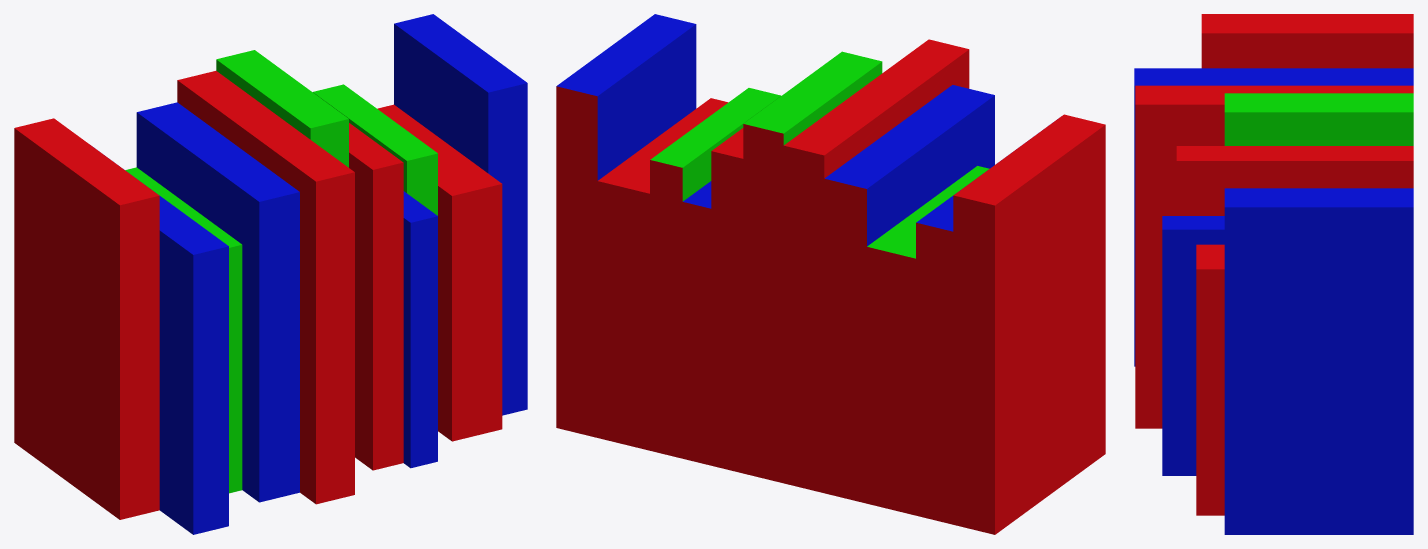
The model's file is Books.fbx.
The picture shows the model from 3 angles, left to right: view 1: azimuth 30°, elevation 25°; view 2: azimuth 150°, elevation 25°; view 3: azimuth 270°, elevation 25°; orthographic projection. The views are drawn at different scales.
Visible parts, largest first — view 1: Books; view 2: Books; view 3: Books.
Boxes of the visible parts, box(x1,y1,x2,y2) form: Books: box(14, 14, 527, 534); Books: box(556, 14, 1105, 534); Books: box(1134, 14, 1413, 534).
Bounding box in the file's own units: 40.88 × 31.13 × 23.53.
